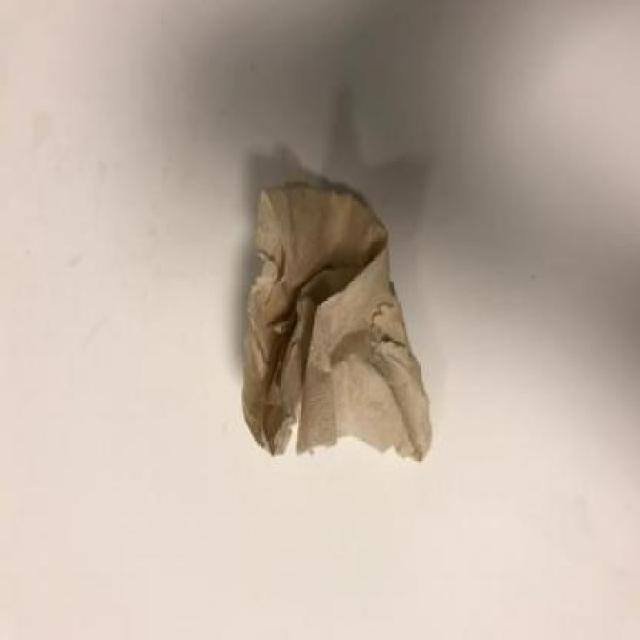giay: (243, 172, 431, 460)
